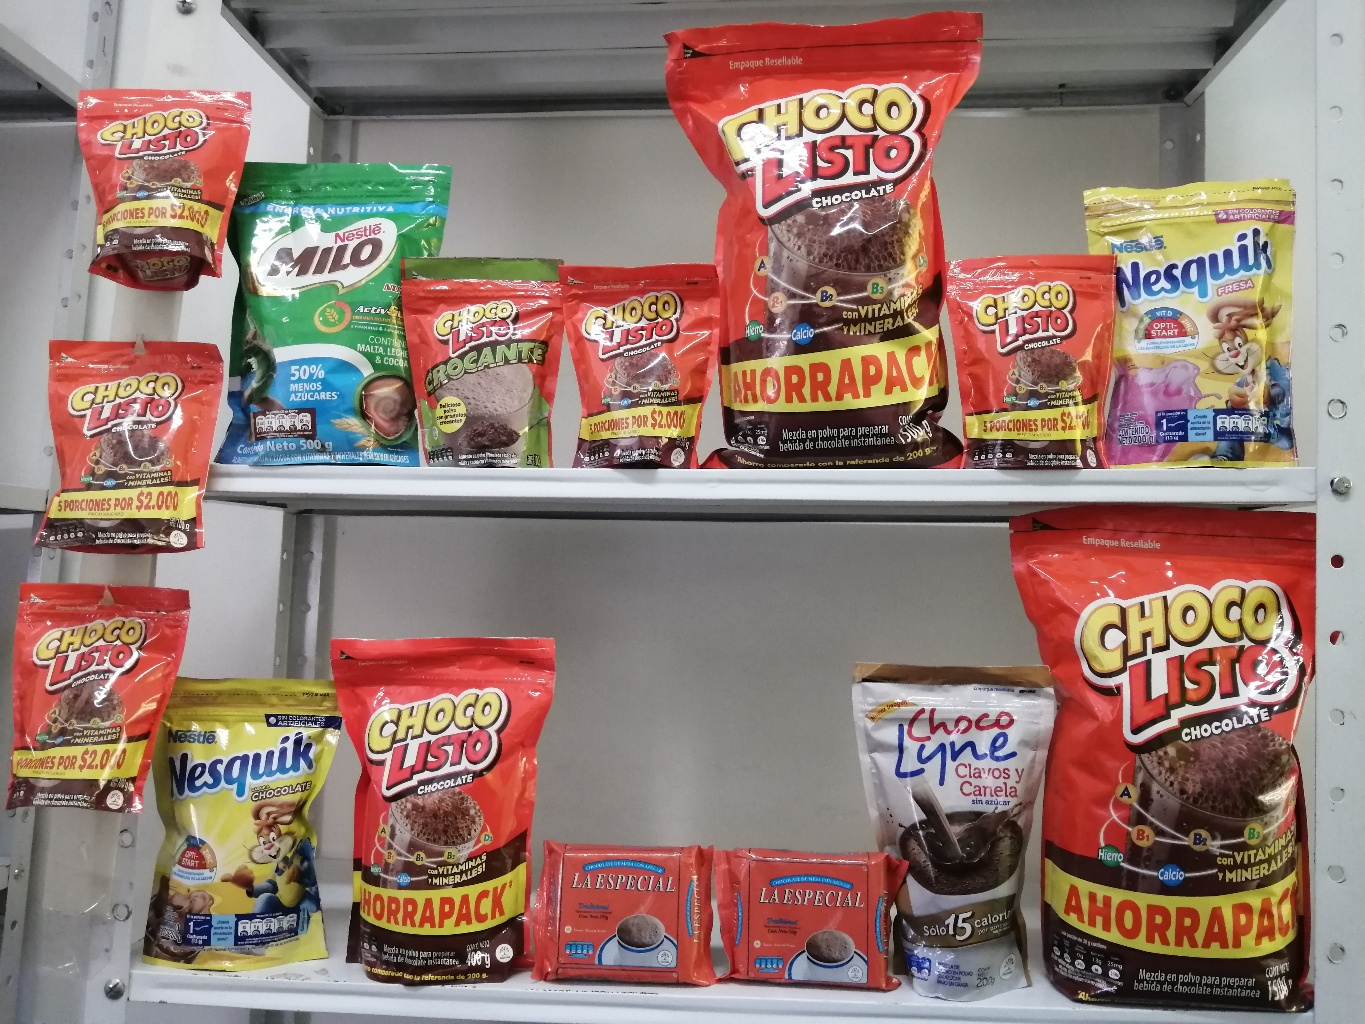COL0170102DYP10000: (397, 250, 560, 471)
COL0170103DYP1,500: (667, 15, 980, 471)
COL0170103DYP10000: (74, 84, 253, 297)
COL0170103DYP40000: (329, 632, 552, 989)
COL0170205DYP50000: (228, 152, 450, 471)
COL0170303DYP20000: (145, 669, 344, 970)
COL0170305DYP20000: (1077, 182, 1306, 468)
